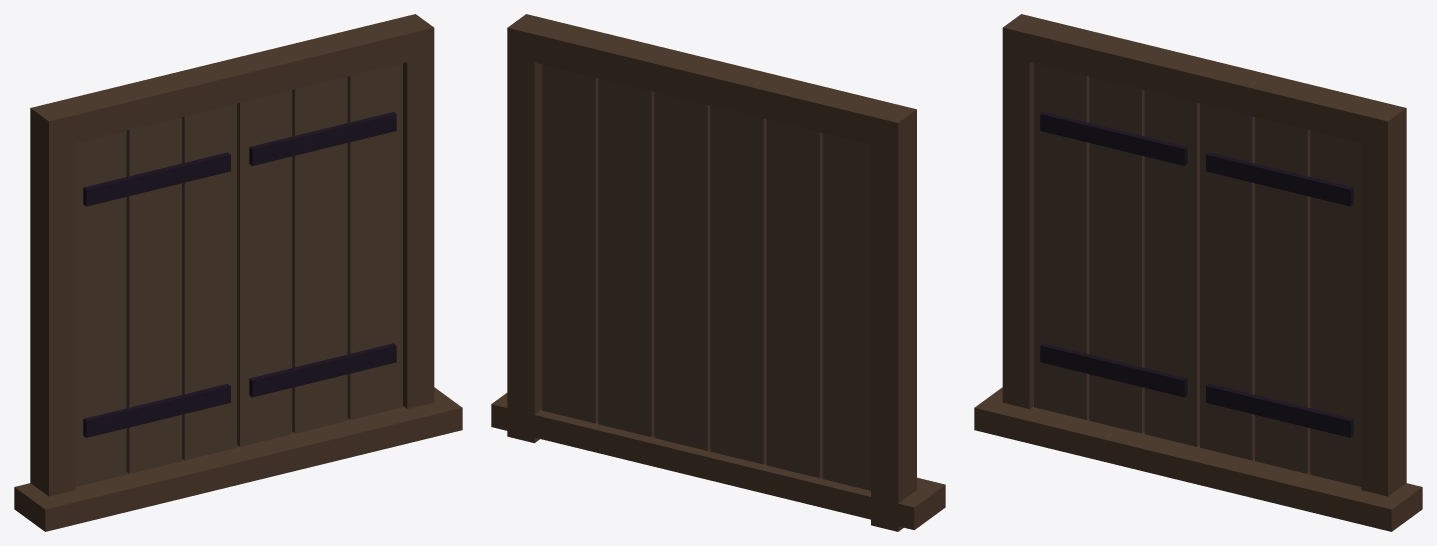
File: window_shuttered.glb
3 renders of one model, left to right at view 1: azimuth 30°, elevation 25°; view 2: azimuth 150°, elevation 25°; view 3: azimuth 330°, elevation 25°, orthographic.
Parts seen in each view (by area): view 1: window_shuttered; view 2: window_shuttered; view 3: window_shuttered.
Boxes of the visible parts, x1,y1,x2,y2 form: window_shuttered: [14, 14, 462, 531]; window_shuttered: [491, 14, 945, 531]; window_shuttered: [974, 14, 1422, 531].
Size of the model in its own units: 0.78 by 0.72 by 0.1.
